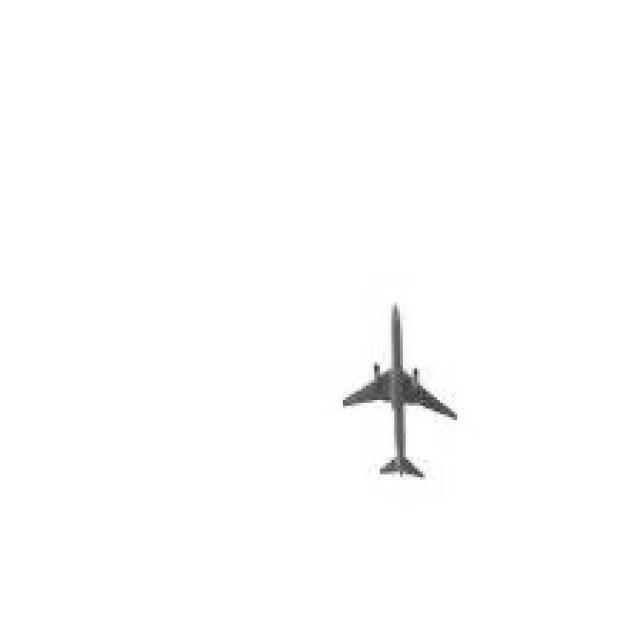aeroplane: (340, 300, 463, 480)
